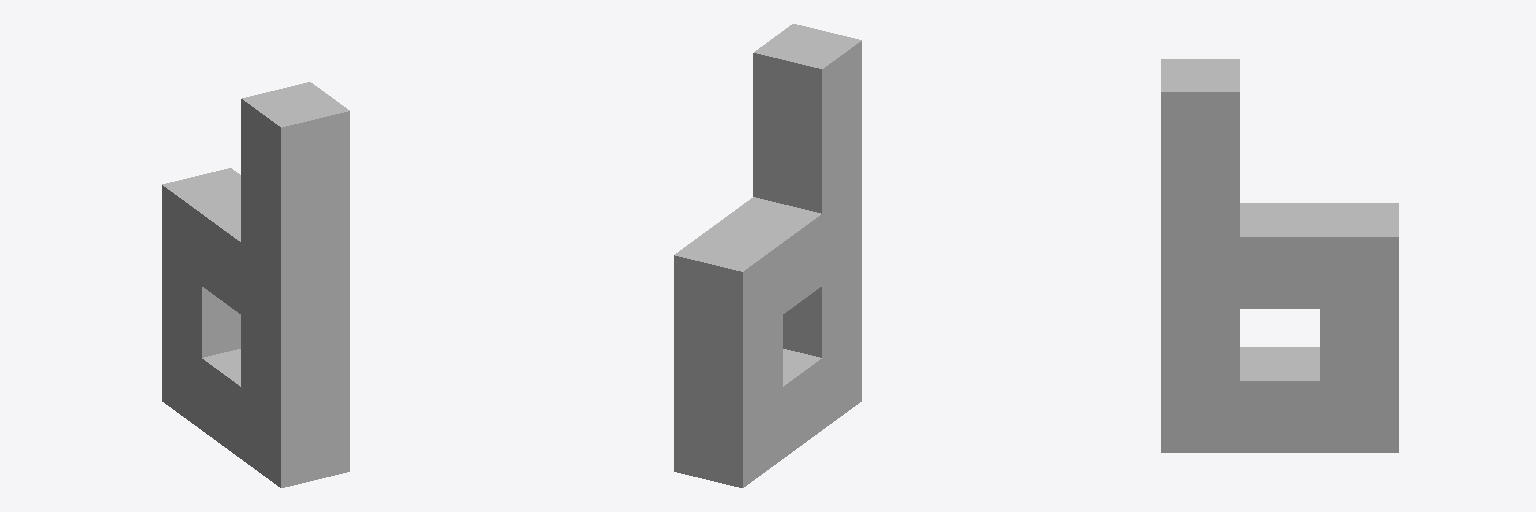
3 views of the same model, side by side, from view 1: azimuth 30°, elevation 25°; view 2: azimuth 150°, elevation 25°; view 3: azimuth 270°, elevation 25° (orthographic).
Visible parts, largest first — view 1: mesh[number redacted]; view 2: mesh[number redacted]; view 3: mesh[number redacted].
Boxes of the visible parts, <box> form: mesh[number redacted]: <box>162,82,349,487</box>; mesh[number redacted]: <box>674,24,861,487</box>; mesh[number redacted]: <box>1161,59,1398,452</box>.
Size of the model in its own units: 0.02 by 0.1 by 0.06.